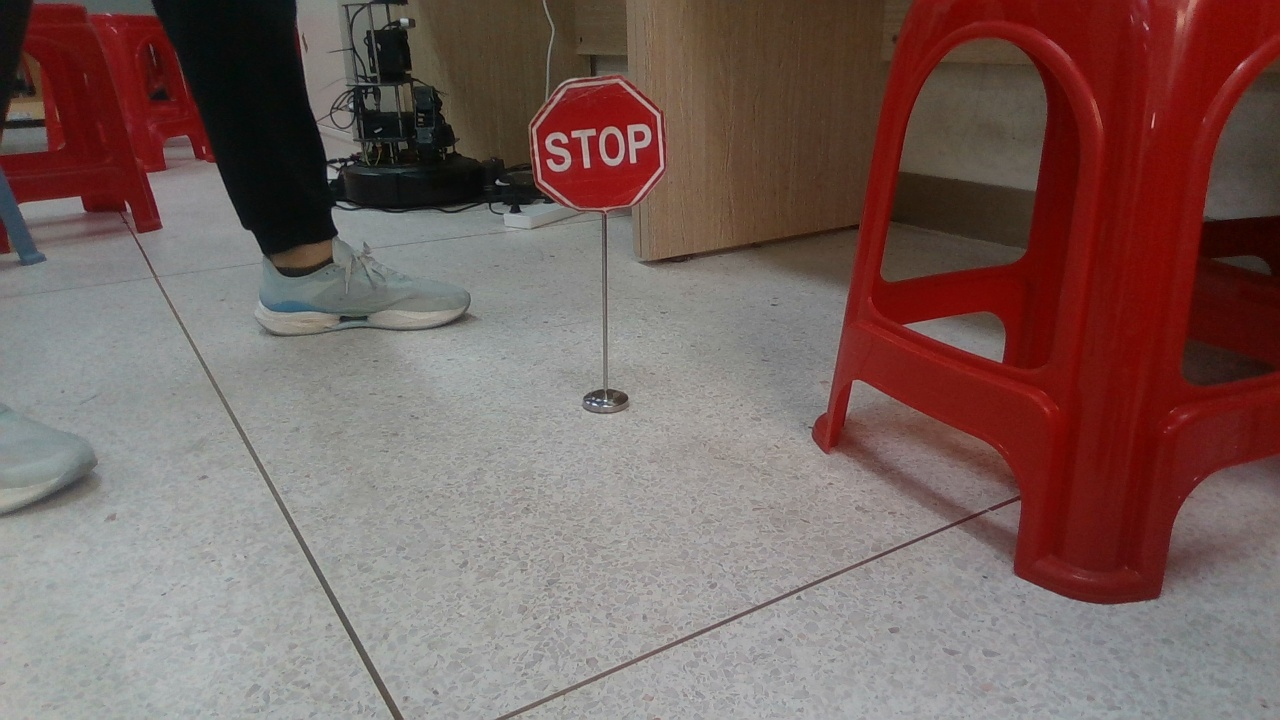Stop sign: (530, 76, 665, 215)
